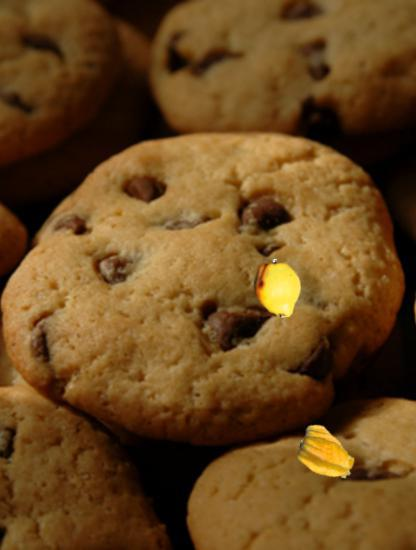Physalis: (299, 423, 358, 482)
Quince: (248, 259, 307, 318)
